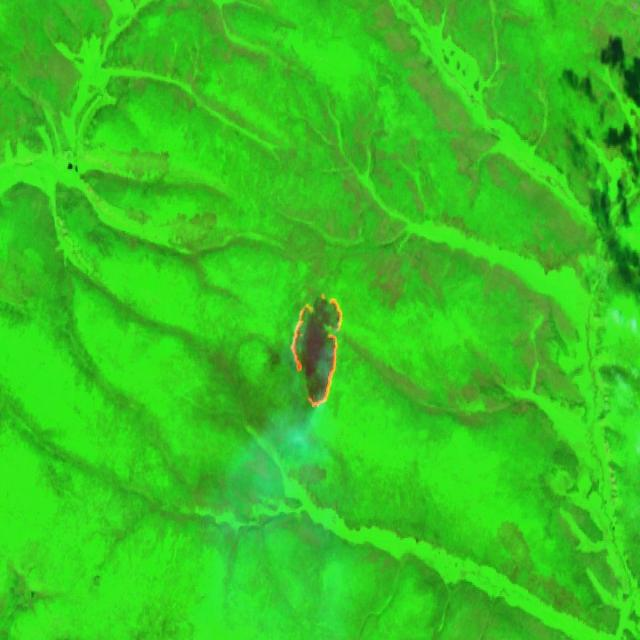fire: (288, 289, 346, 413)
